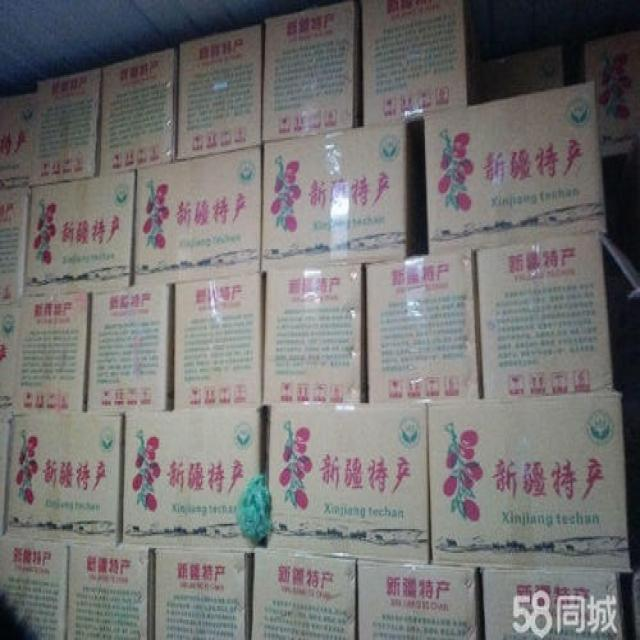box: (427, 392, 632, 572), (424, 81, 607, 253), (265, 403, 431, 562), (263, 118, 422, 271), (477, 234, 616, 398), (123, 408, 263, 550), (366, 248, 484, 403), (132, 146, 262, 286), (6, 413, 124, 545), (265, 263, 367, 407), (262, 1, 362, 143), (26, 171, 137, 298), (363, 0, 469, 128), (173, 275, 263, 409), (177, 26, 263, 161), (86, 284, 175, 411), (483, 564, 627, 638), (100, 46, 176, 177), (14, 294, 93, 416), (357, 561, 482, 638), (252, 552, 358, 638), (155, 548, 253, 638), (68, 542, 155, 638), (33, 68, 102, 181), (0, 534, 69, 638), (1, 91, 38, 188), (0, 187, 30, 302), (0, 301, 24, 410)
